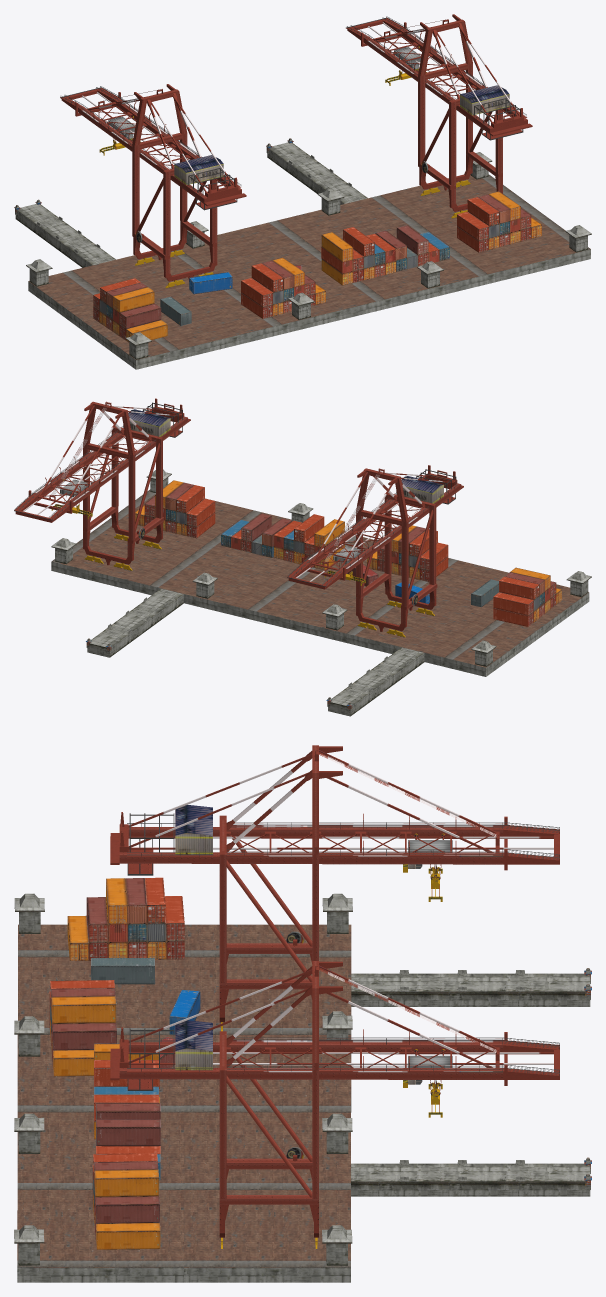
File: Dockyard.fbx
3 renders of one model, top to bottom at view 1: azimuth 30°, elevation 25°; view 2: azimuth 150°, elevation 25°; view 3: azimuth 270°, elevation 25°, orthographic. The views are drawn at different scales.
Parts seen in each view (by area): view 1: polySurface1002, Container_misstion_003, Container_misstion_003__1_, Container_set1_004__5_, Dockyard, Container_set2_003__4_, Container_set1_004, Container_set1_004__1_, polySurface990__1_1, polySurface990__1_, Container_set4_004__4_, White_Container009__2_ (+1 smaller); view 2: polySurface1002, Container_misstion_003, Container_misstion_003__1_, Container_set1_004, Container_set1_004__5_, Dockyard, polySurface990__1_1, polySurface990__1_, Container_set2_003__4_, Container_set1_004__1_, Container_set4_004__4_, White_Container008__2_; view 3: polySurface1002, Container_misstion_003__1_, Container_misstion_003, polySurface990__1_, polySurface990__1_1, Container_set1_004, Dockyard, Container_set1_004__5_, Container_set1_004__1_, Container_set4_004__4_, Container_set2_003__4_, White_Container008__2_ (+1 smaller).
Part boxes in pixels (left/top/right/bottom): polySurface1002: left=28, top=174, right=590, bottom=369; Container_misstion_003: left=60, top=84, right=246, bottom=288; Container_misstion_003__1_: left=346, top=14, right=532, bottom=218; Container_set1_004__5_: left=457, top=191, right=541, bottom=252; Dockyard: left=26, top=152, right=591, bottom=359; Container_set2_003__4_: left=321, top=227, right=396, bottom=285; Container_set1_004: left=93, top=278, right=167, bottom=342; Container_set1_004__1_: left=241, top=257, right=325, bottom=318; polySurface990__1_1: left=14, top=199, right=115, bottom=267; polySurface990__1_: left=266, top=138, right=367, bottom=204; Container_set4_004__4_: left=375, top=225, right=449, bottom=271; White_Container009__2_: left=189, top=272, right=232, bottom=294; polySurface1002: left=51, top=489, right=589, bottom=676; Container_misstion_003: left=287, top=465, right=463, bottom=637; Container_misstion_003__1_: left=14, top=398, right=190, bottom=570; Container_set1_004: left=493, top=567, right=561, bottom=626; Container_set1_004__5_: left=135, top=480, right=215, bottom=538; Dockyard: left=51, top=469, right=591, bottom=666; polySurface990__1_1: left=326, top=647, right=424, bottom=716; polySurface990__1_: left=86, top=588, right=183, bottom=657; Container_set2_003__4_: left=273, top=514, right=344, bottom=570; Container_set1_004__1_: left=367, top=525, right=448, bottom=581; Container_set4_004__4_: left=221, top=513, right=291, bottom=557; White_Container008__2_: left=471, top=579, right=498, bottom=607; polySurface1002: left=17, top=924, right=351, bottom=1282; Container_misstion_003__1_: left=110, top=961, right=559, bottom=1249; Container_misstion_003: left=110, top=745, right=559, bottom=1031; polySurface990__1_: left=351, top=1157, right=591, bottom=1196; polySurface990__1_1: left=351, top=968, right=591, bottom=1006; Container_set1_004: left=67, top=877, right=184, bottom=960; Dockyard: left=14, top=893, right=352, bottom=1265; Container_set1_004__5_: left=92, top=1153, right=160, bottom=1249; Container_set1_004__1_: left=49, top=980, right=116, bottom=1076; Container_set4_004__4_: left=96, top=1103, right=160, bottom=1180; Container_set2_003__4_: left=94, top=1043, right=159, bottom=1139; White_Container008__2_: left=91, top=958, right=154, bottom=984.
Bounding box in the file's own units: 4610 × 1740 × 3268.
Materials: 1 (1 with a texture image).
